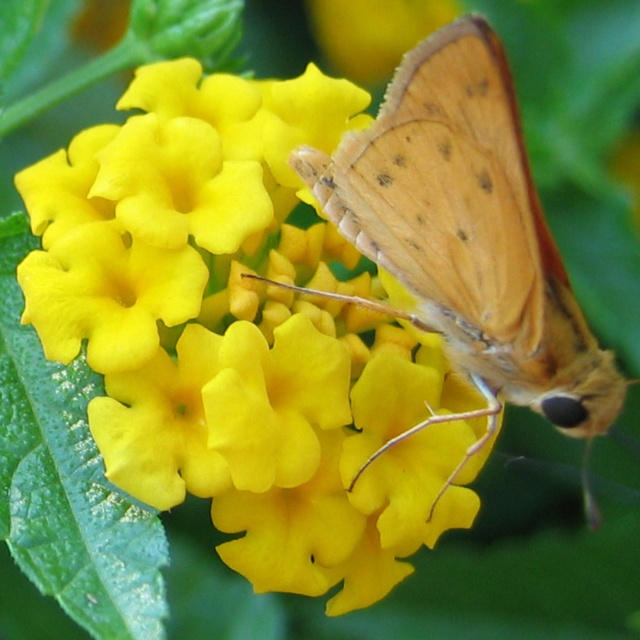Butterfly: (242, 10, 636, 521)
